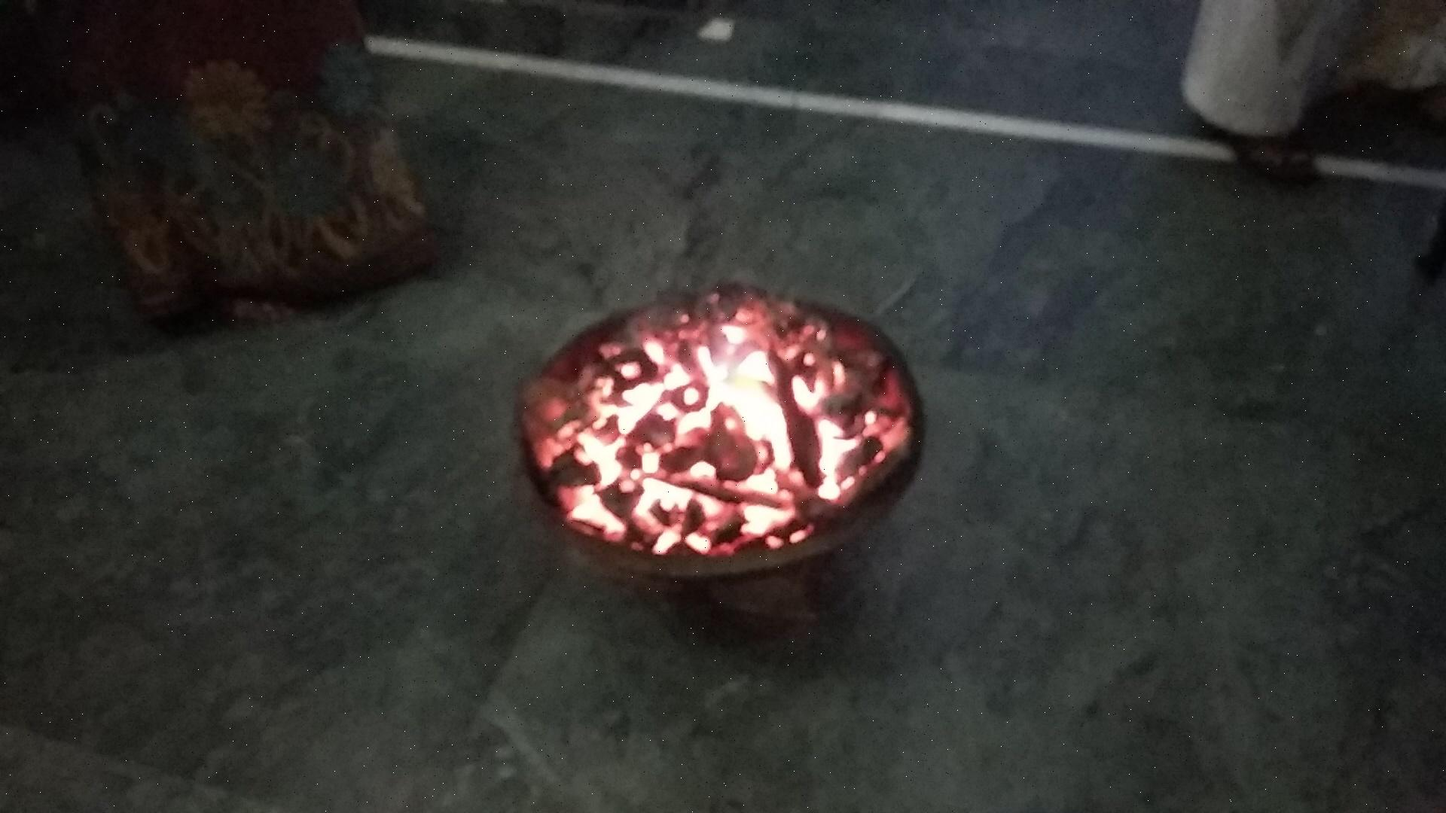fire: (573, 297, 874, 540)
